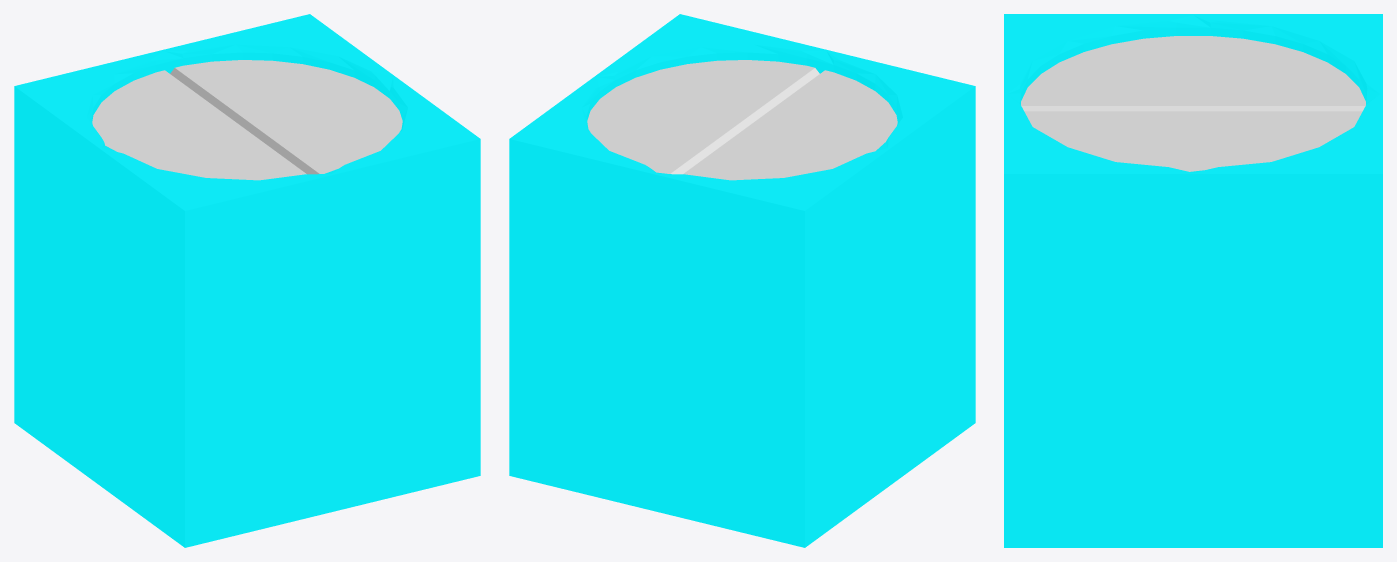
The model's file is Convertor.fbx.
The picture shows the model from 3 angles, left to right: view 1: azimuth 30°, elevation 25°; view 2: azimuth 150°, elevation 25°; view 3: azimuth 270°, elevation 25°; orthographic projection. The views are drawn at different scales.
Parts seen in each view (by area): view 1: Shell, Lid1, Lid0; view 2: Shell, Lid1, Lid0; view 3: Shell, Lid0, Lid1.
Boxes of the visible parts, box(x1,y1,x2,y2) form: Shell: box(14, 14, 480, 547); Lid1: box(170, 60, 402, 174); Lid0: box(92, 70, 306, 180); Shell: box(509, 14, 975, 547); Lid1: box(587, 60, 819, 174); Lid0: box(683, 70, 897, 180); Shell: box(1004, 14, 1382, 547); Lid0: box(1021, 36, 1365, 111); Lid1: box(1024, 111, 1362, 171).
Size of the model in its own units: 112 by 122 by 112.
